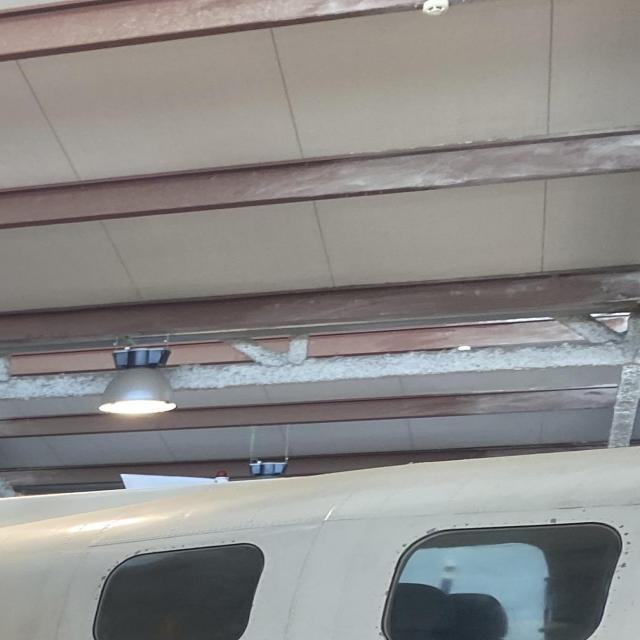Paint-off: (424, 527, 437, 536), (548, 516, 558, 525), (383, 590, 390, 598)
